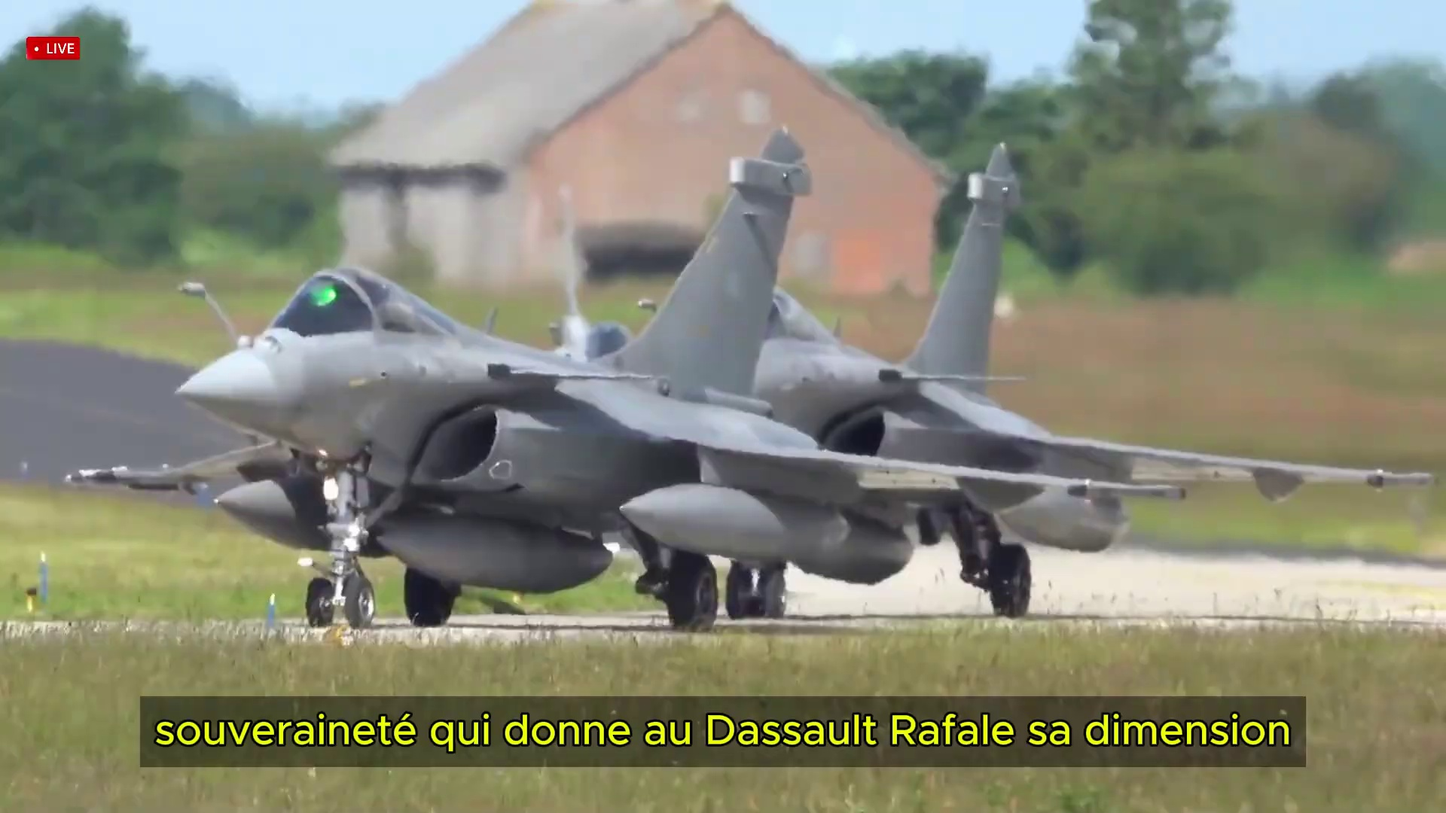Rafale: (48, 132, 1199, 633)
